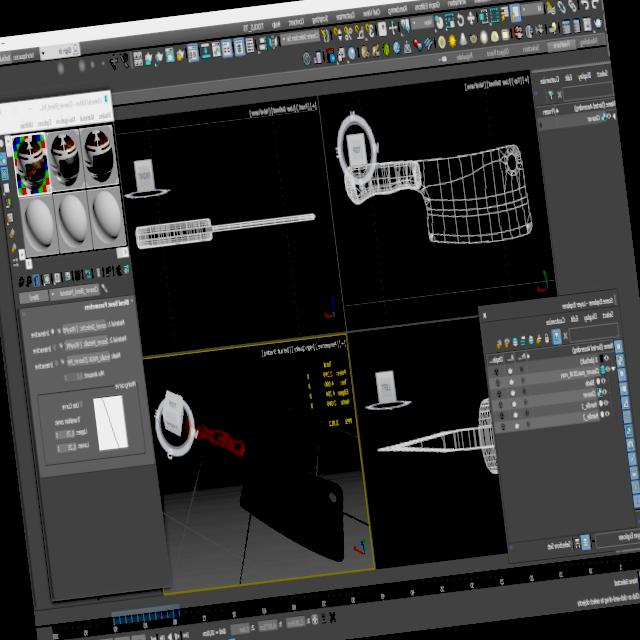cleaver: (188, 404, 344, 575)
